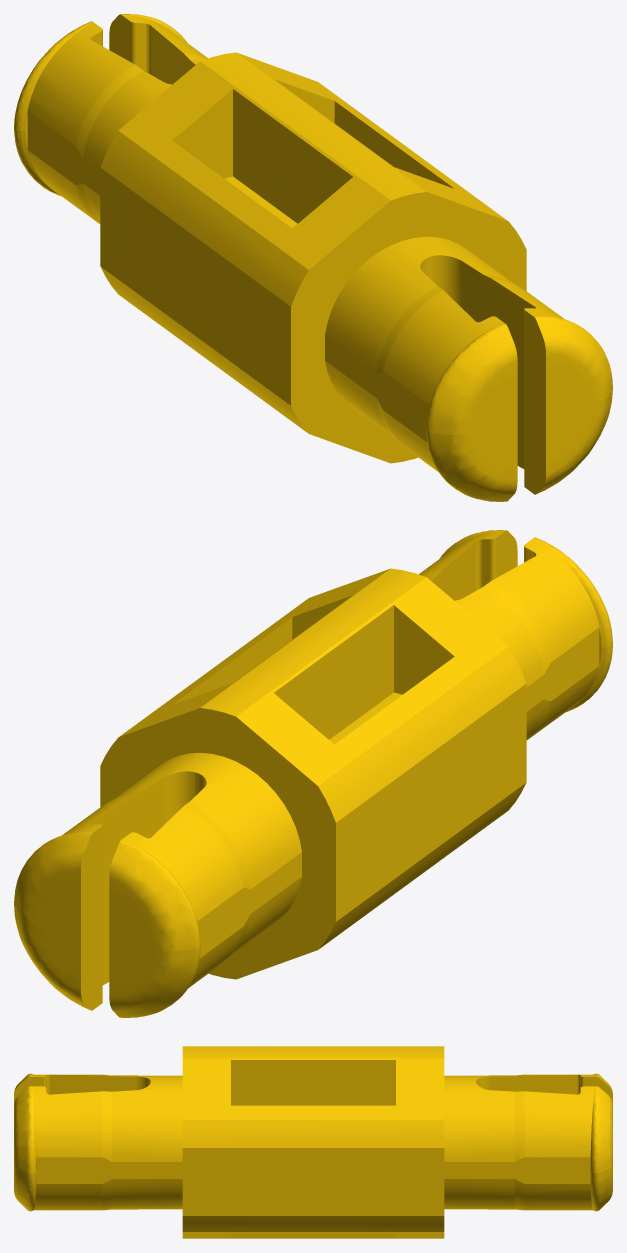
File: 0.5x Pitch Standoff (Weak) (228-2500-2268).glb
3 renders of one model, top to bottom at view 1: azimuth 30°, elevation 25°; view 2: azimuth 150°, elevation 25°; view 3: azimuth 270°, elevation 25°, orthographic. The views are drawn at different scales.
Visible parts, largest first — view 1: 0.5x Pitch Standoff (Weak) (228-2500-2268); view 2: 0.5x Pitch Standoff (Weak) (228-2500-2268); view 3: 0.5x Pitch Standoff (Weak) (228-2500-2268).
Part boxes in pixels (x1,y1,x2,y2): 0.5x Pitch Standoff (Weak) (228-2500-2268): (14,14,612,501); 0.5x Pitch Standoff (Weak) (228-2500-2268): (14,530,612,1017); 0.5x Pitch Standoff (Weak) (228-2500-2268): (14,1046,612,1238).
Bounding box in the file's own units: 0.2283 × 0.2458 × 0.7334.
